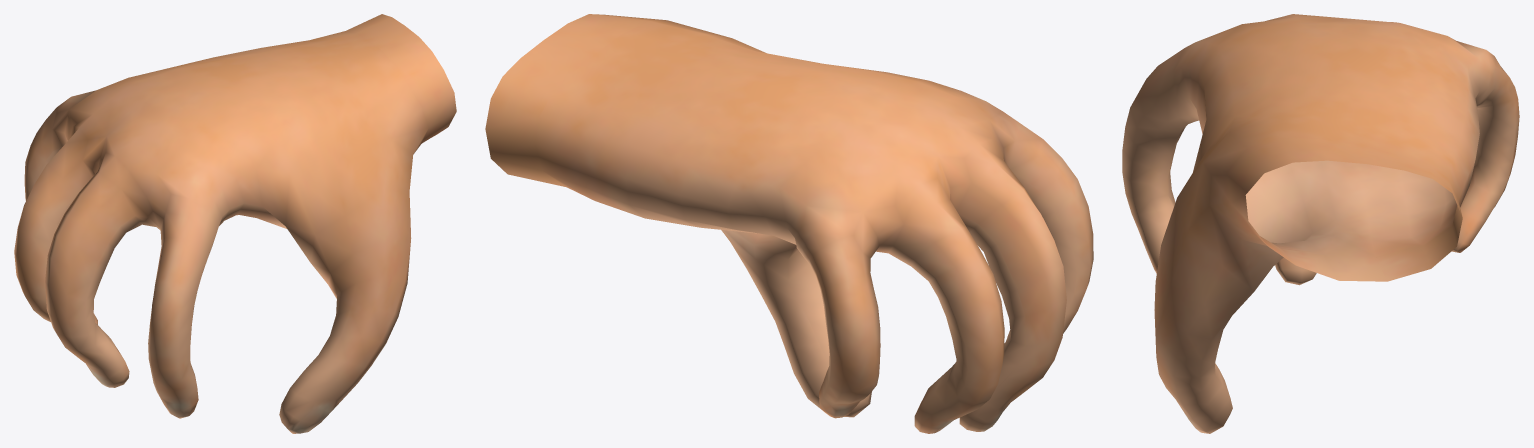
3 views of the same model, side by side, from view 1: azimuth 30°, elevation 25°; view 2: azimuth 150°, elevation 25°; view 3: azimuth 270°, elevation 25° (orthographic). The views are drawn at different scales.
Visible parts, largest first — view 1: H_sphere; view 2: H_sphere; view 3: H_sphere.
Boxes of the visible parts, x1,y1,x2,y2 form: H_sphere: [14, 14, 456, 433]; H_sphere: [485, 14, 1093, 433]; H_sphere: [1122, 14, 1519, 433].
Bounding box in the file's own units: 15.34 × 11.72 × 11.45.
1 material, 1 textured.
